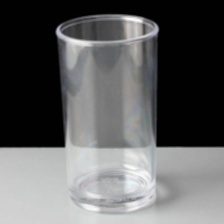glass: (52, 7, 164, 217)
